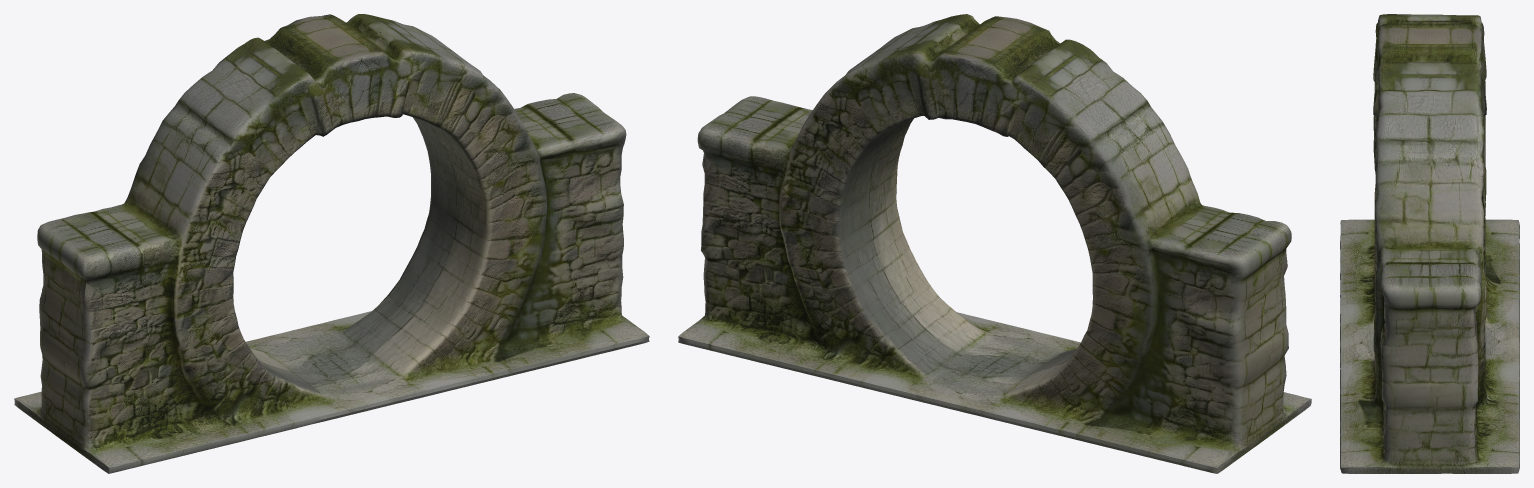
Rendered from stone_ring.glb.
3 views of the same model, side by side, from view 1: azimuth 30°, elevation 25°; view 2: azimuth 150°, elevation 25°; view 3: azimuth 270°, elevation 25° (orthographic). The views are drawn at different scales.
Visible parts, largest first — view 1: stone_ring; view 2: stone_ring; view 3: stone_ring.
Boxes of the visible parts, bbox=[...] form: stone_ring: bbox=[14, 14, 649, 473]; stone_ring: bbox=[678, 14, 1311, 473]; stone_ring: bbox=[1340, 14, 1519, 473].
Size of the model in its own units: 1.91 by 1.12 by 0.5769.
1 material, 1 textured.
